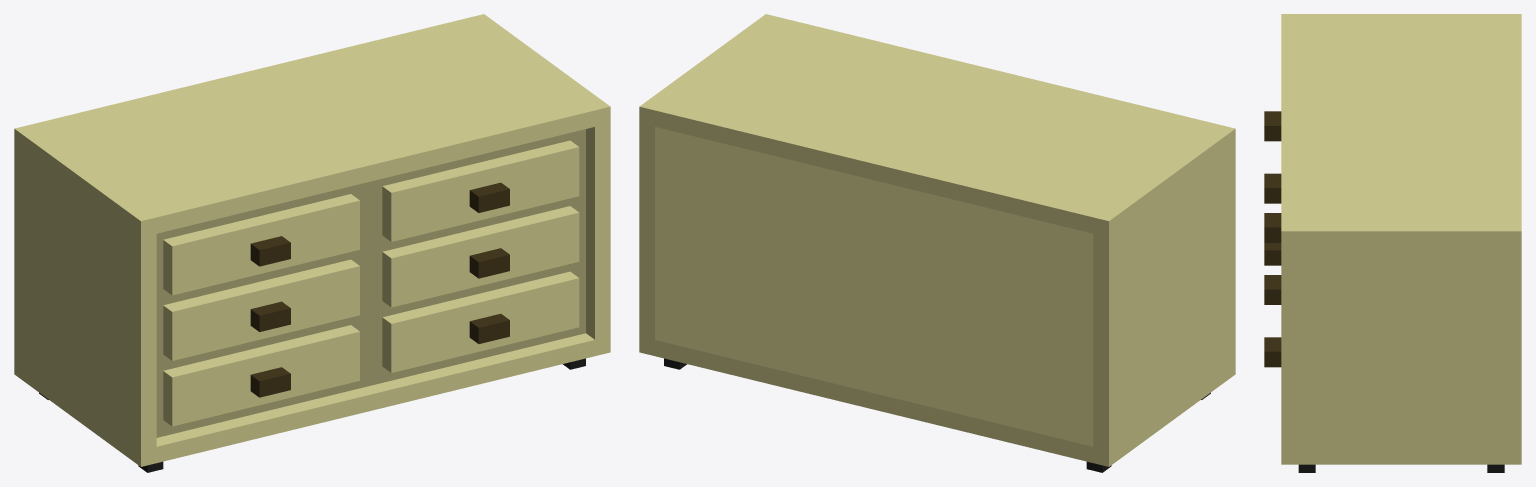
File: ShelfOBJ.obj
3 views of the same model, side by side, from view 1: azimuth 30°, elevation 25°; view 2: azimuth 150°, elevation 25°; view 3: azimuth 270°, elevation 25° (orthographic). The views are drawn at different scales.
Size of the model in its own units: 3 by 1.6 by 1.5.
1 material, 1 textured.
